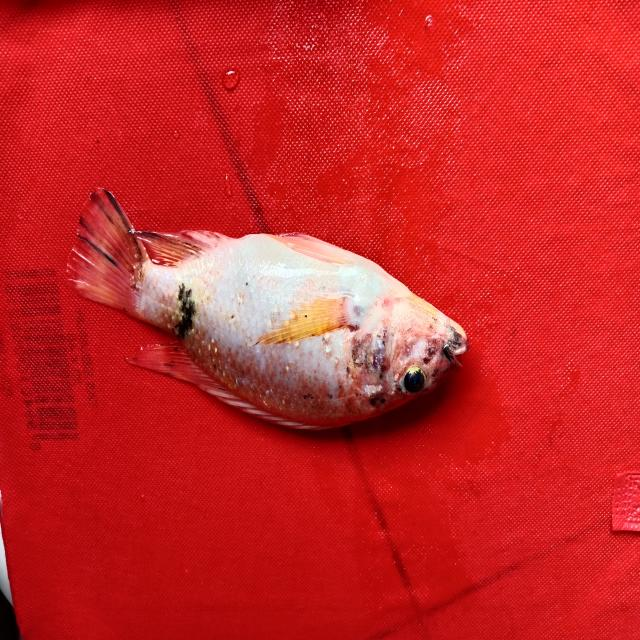ikan: (63, 163, 489, 452)
